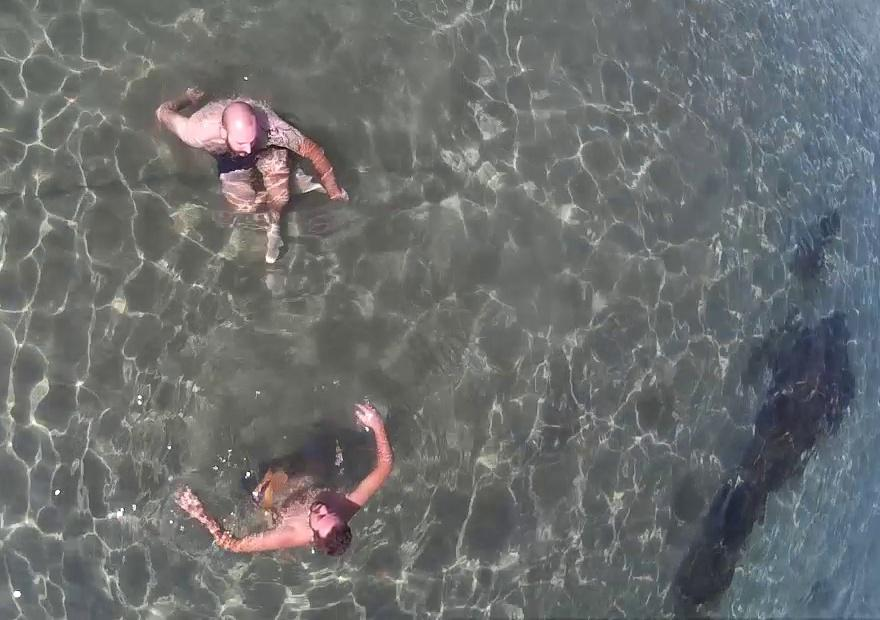swimmer: (168, 388, 420, 588), (138, 60, 338, 244)
